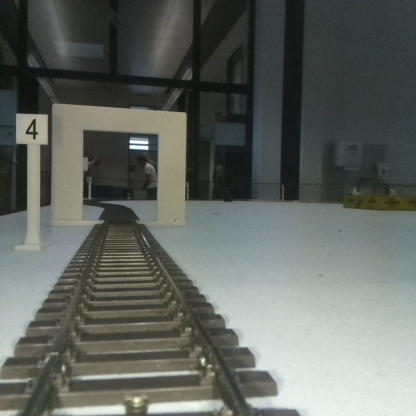white-info-4: (15, 114, 47, 250)
